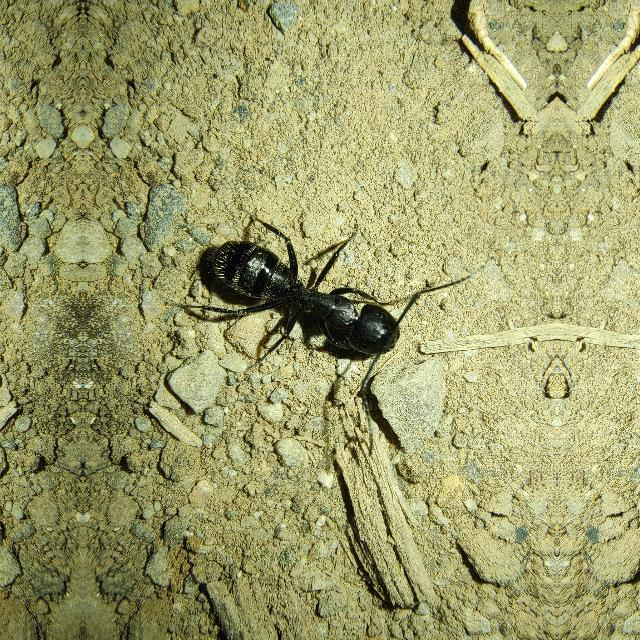Camponotus: (184, 205, 424, 393)
